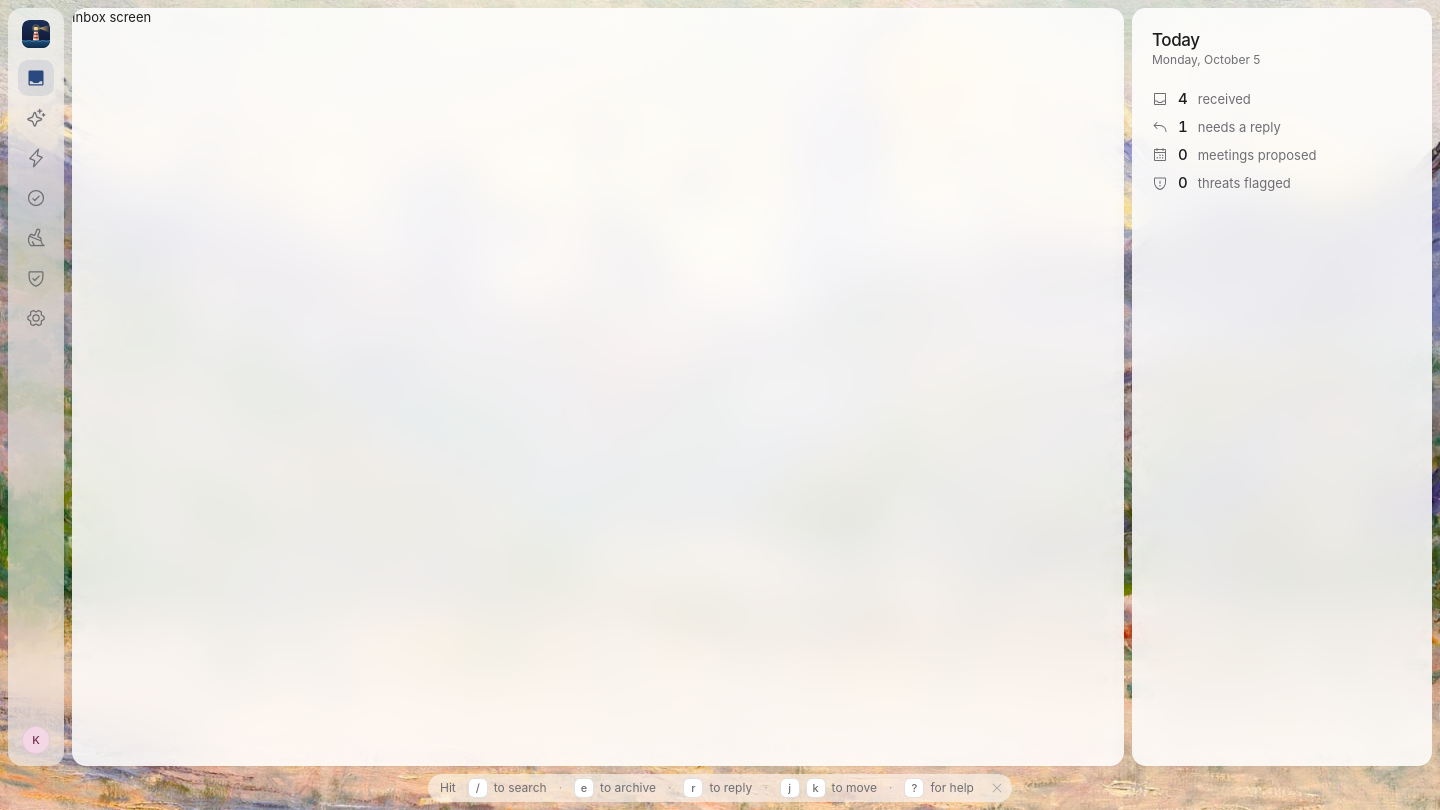
Test case: Layout › opens the account menu with name, email, status and Settings
This screenshot has width=1440, height=810.
Press the mouse on the button named "Account" at [36, 740], box [22,726,50,754]
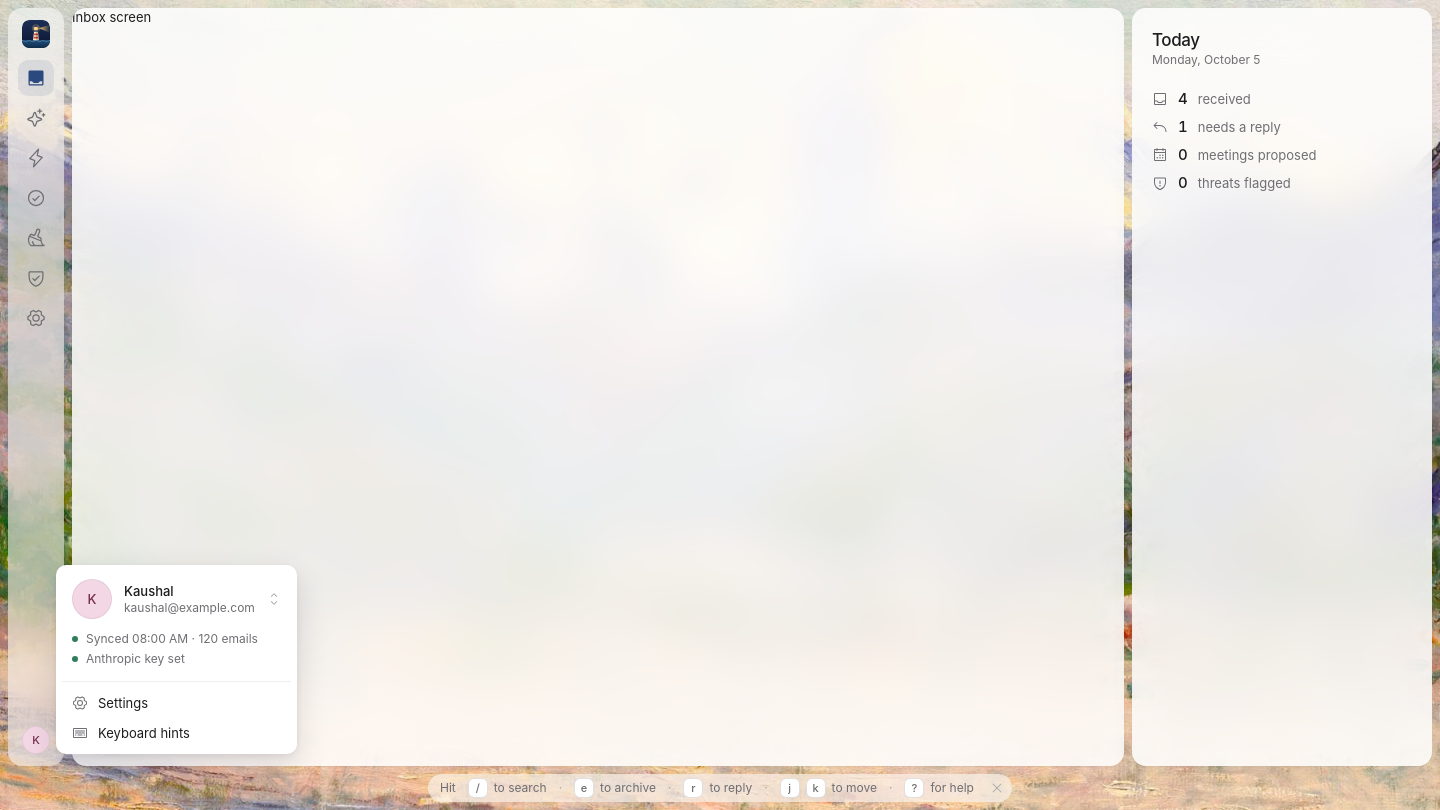
Check: the text "kaushal@example.com" is shown, box [124,600,255,616]
Check: the text "Kaushal" is shown, box [124,583,174,599]
Check: the text "Synced 08:00 AM · 120 emails" is shown, box [86,631,258,647]
Click the menu item "Settings". click: [110, 703]
box: [72,695,148,711]
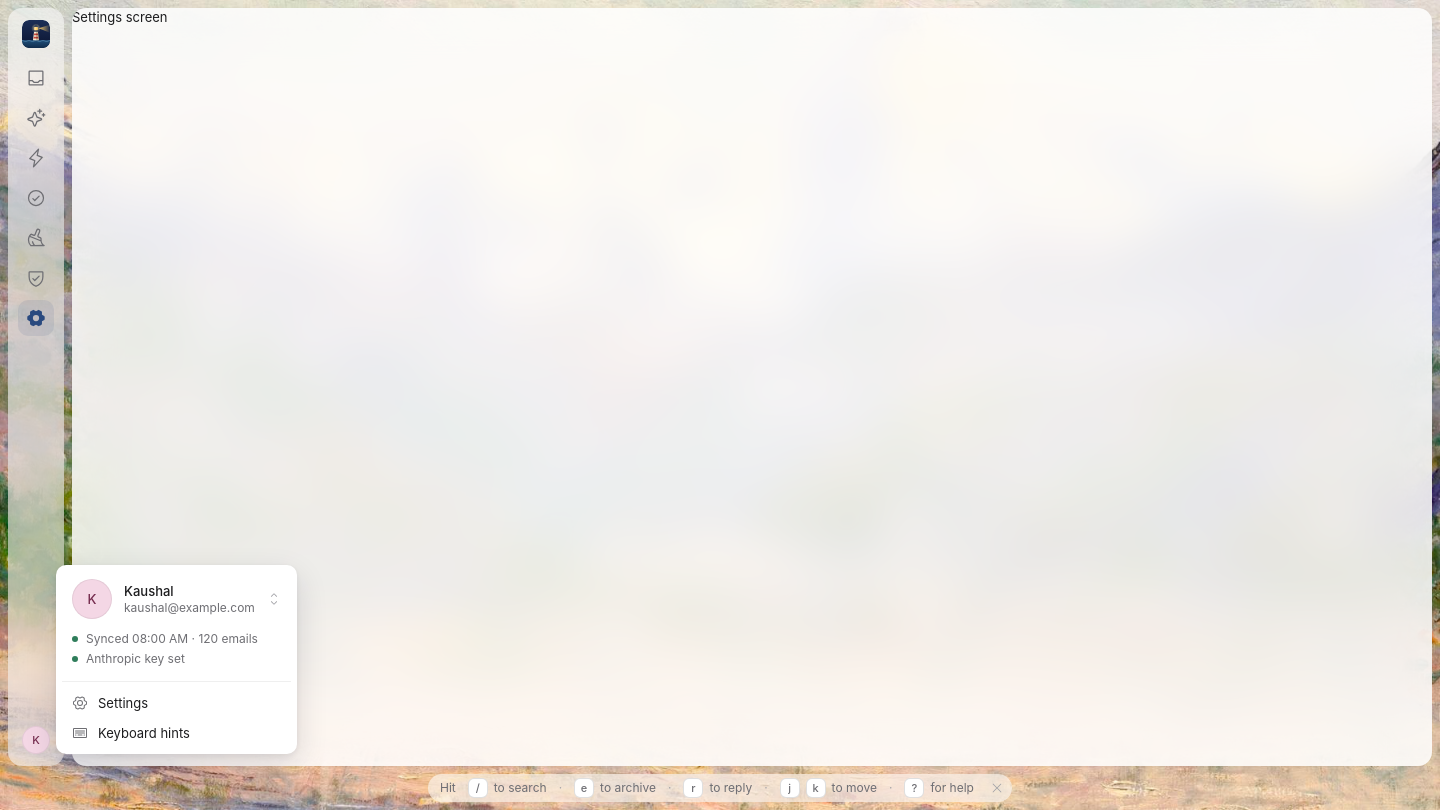
Check: the heading "Settings screen" is shown, box [72,9,168,25]
